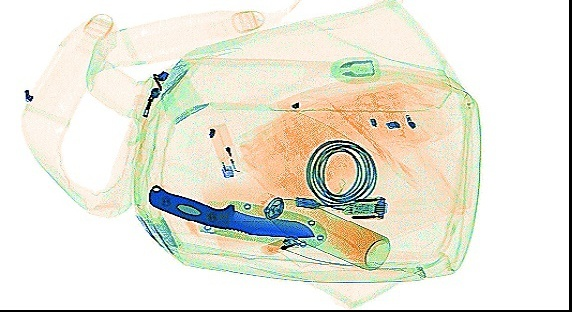knife: (146, 182, 328, 248)
lighter: (233, 233, 299, 267), (208, 120, 239, 177)
pressure: (252, 190, 390, 271)
